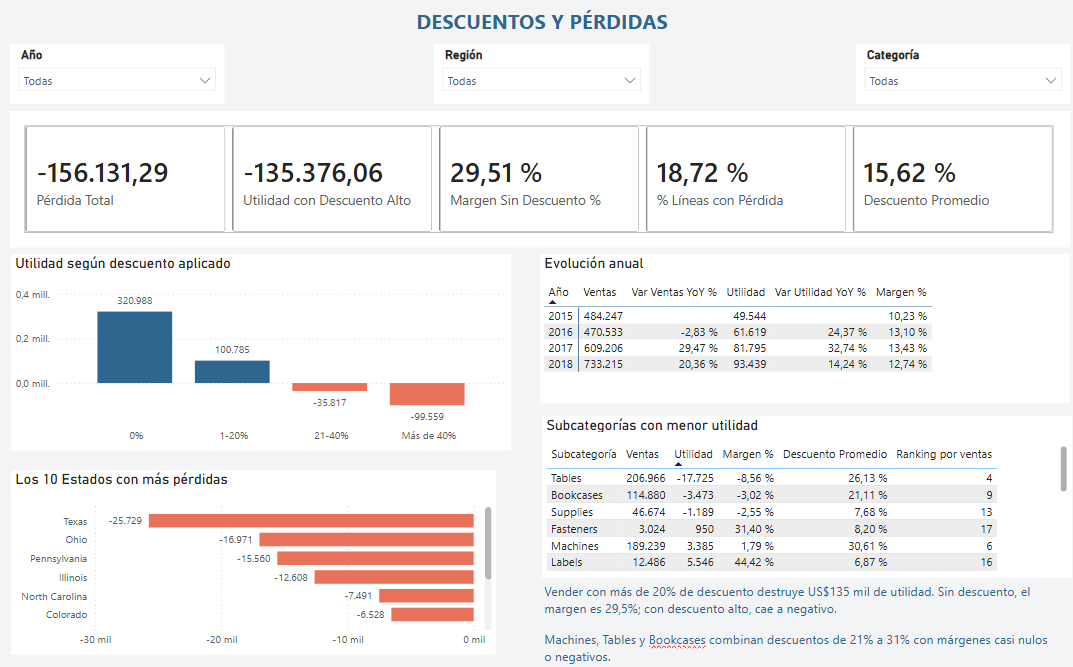

What the dashboard file says about the page in this screenshot:
{"tool":"powerbi","page":{"name":"Descuentos y pérdidas","canvas":[1280,800],"ordinal":4},"visuals":[{"type":"slicer","title":"Año","fields":{"Values":["dim_date.year"]},"box":[12.6,56.1,252.8,70.9],"z":0},{"type":"slicer","fields":{"Values":["dim_geography.region"]},"box":[513.1,56.2,253.9,70.9],"z":1000},{"type":"slicer","fields":{"Values":["dim_product.category"]},"box":[1011.2,56.1,252.8,70.9],"z":2000},{"type":"textbox","box":[456.4,8,368.3,48],"z":4000},{"type":"cardVisual","fields":{"Data":["_Medidas.Pérdida Total","_Medidas.Utilidad con Descuento Alto","_Medidas.Margen Sin Descuento %","_Medidas.% Líneas con Pérdida","_Medidas.Descuento Promedio"]},"box":[13,135.7,1251.4,161.3],"z":5000},{"type":"columnChart","title":"Utilidad según descuento aplicado","fields":{"Category":["fact_sales.Banda de Descuento"],"Y":["_Medidas.Utilidad"]},"box":[14.2,304.4,589.9,232.4],"z":6000},{"type":"pivotTable","title":"Evolución anual","fields":{"Rows":["dim_date.year"],"Values":["_Medidas.Ventas","_Medidas.Var Ventas YoY %","_Medidas.Utilidad","_Medidas.Var Utilidad YoY %","_Medidas.Margen %"]},"box":[638.2,304.4,625.3,175.8],"z":7000},{"type":"tableEx","title":"Subcategorías con menor utilidad","fields":{"Values":["dim_product.sub_category","_Medidas.Ventas","_Medidas.Utilidad","_Medidas.Margen %","_Medidas.Descuento Promedio","_Medidas.Ranking Subcategoría"]},"box":[640.6,495.5,625.3,191.1],"z":8000},{"type":"barChart","title":"Los 10 Estados con más pérdidas","fields":{"Category":["dim_geography.state"],"Y":["_Medidas.Utilidad"]},"box":[14.2,559.2,572,218],"z":8001},{"type":"textbox","box":[638.2,686.6,613.5,113.3],"z":8002}]}

Visuals, with their boxes in screenshot pixels (x1, y1, x2, y2), scaled from the page's 1280x800 canvas onto the 1073x667 screenshot:
"Año" slicer: (x1=11, y1=47, x2=222, y2=106)
slicer - dim_geography.region: (x1=430, y1=47, x2=643, y2=106)
slicer - dim_product.category: (x1=848, y1=47, x2=1060, y2=106)
textbox: (x1=383, y1=7, x2=691, y2=47)
cardVisual - _Medidas.Pérdida Total x _Medidas.Utilidad con Descuento Alto: (x1=11, y1=113, x2=1060, y2=248)
"Utilidad según descuento aplicado" columnChart: (x1=12, y1=254, x2=506, y2=448)
"Evolución anual" pivotTable: (x1=535, y1=254, x2=1059, y2=400)
"Subcategorías con menor utilidad" tableEx: (x1=537, y1=413, x2=1061, y2=572)
"Los 10 Estados con más pérdidas" barChart: (x1=12, y1=466, x2=491, y2=648)
textbox: (x1=535, y1=572, x2=1049, y2=666)
